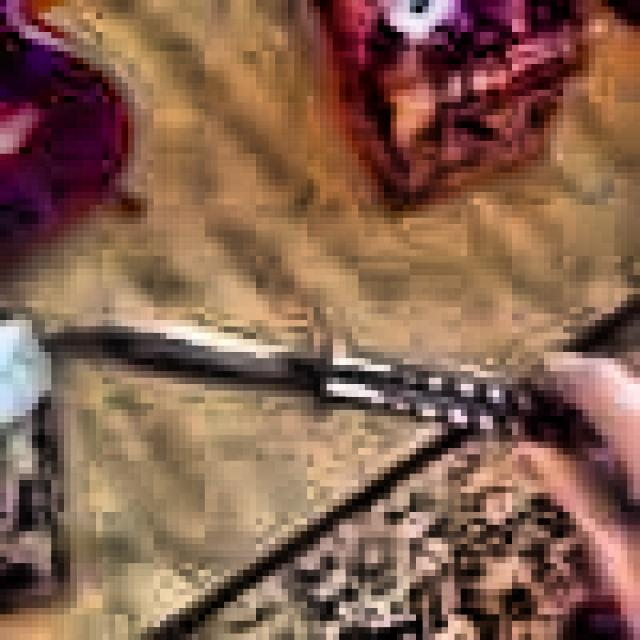knife: (33, 320, 611, 454)
